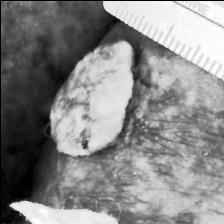Potentially Malignant Skin Tumors: (48, 37, 135, 157)
